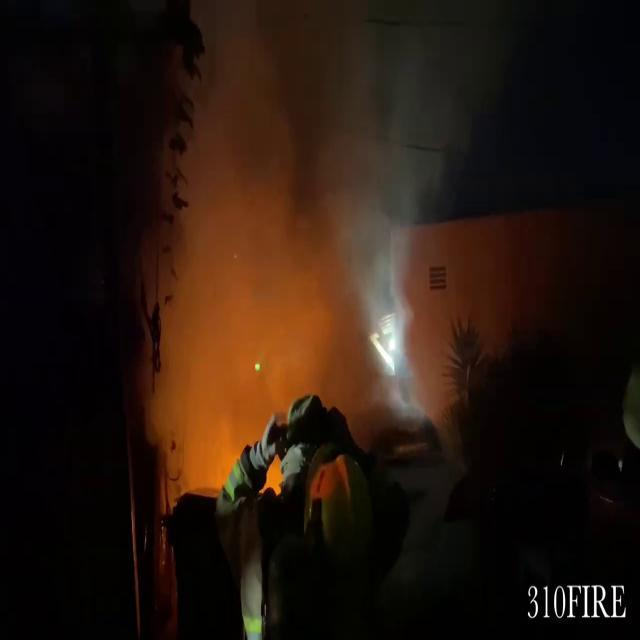Smoke: (121, 2, 456, 462)
